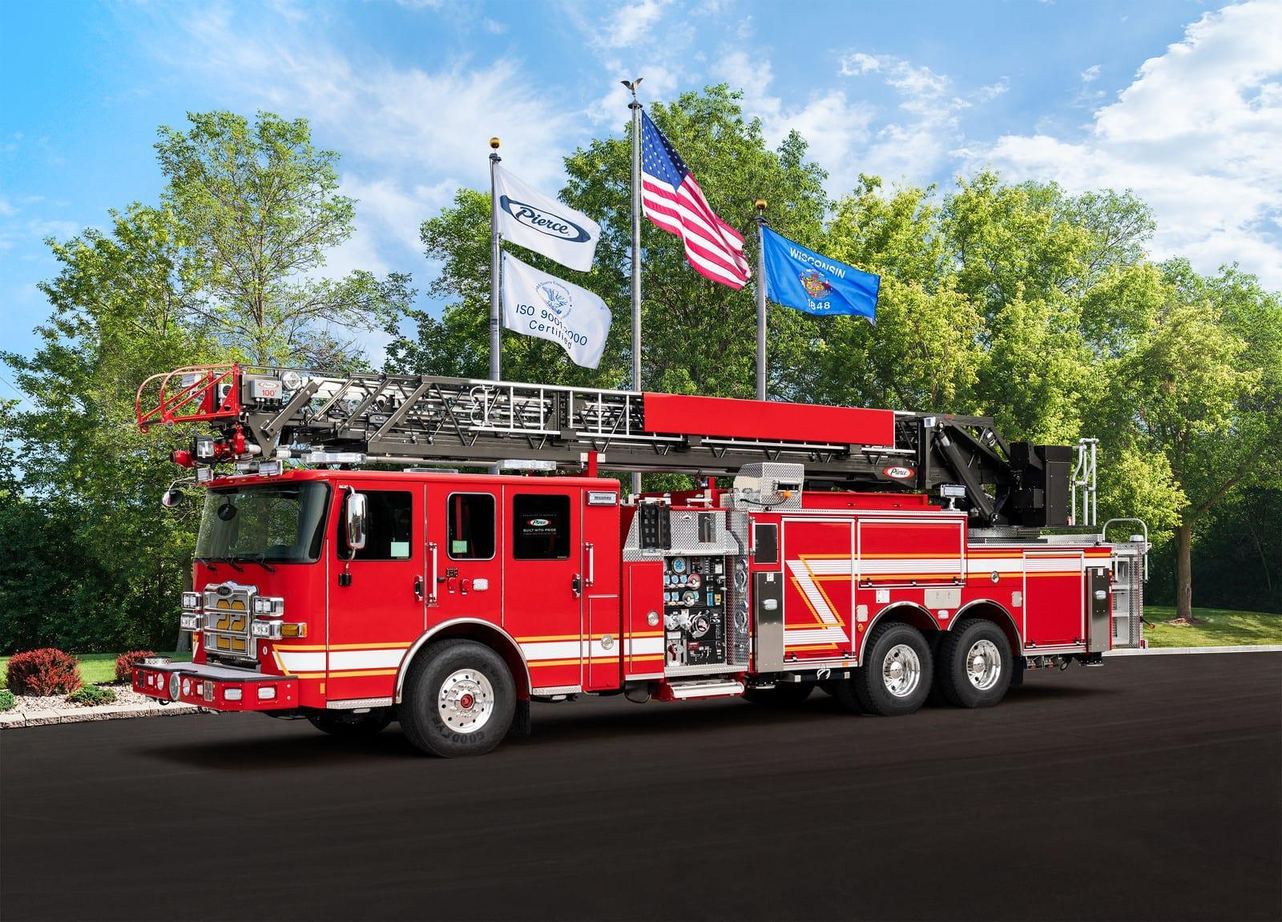Fire-engine: (121, 378, 1143, 761)
